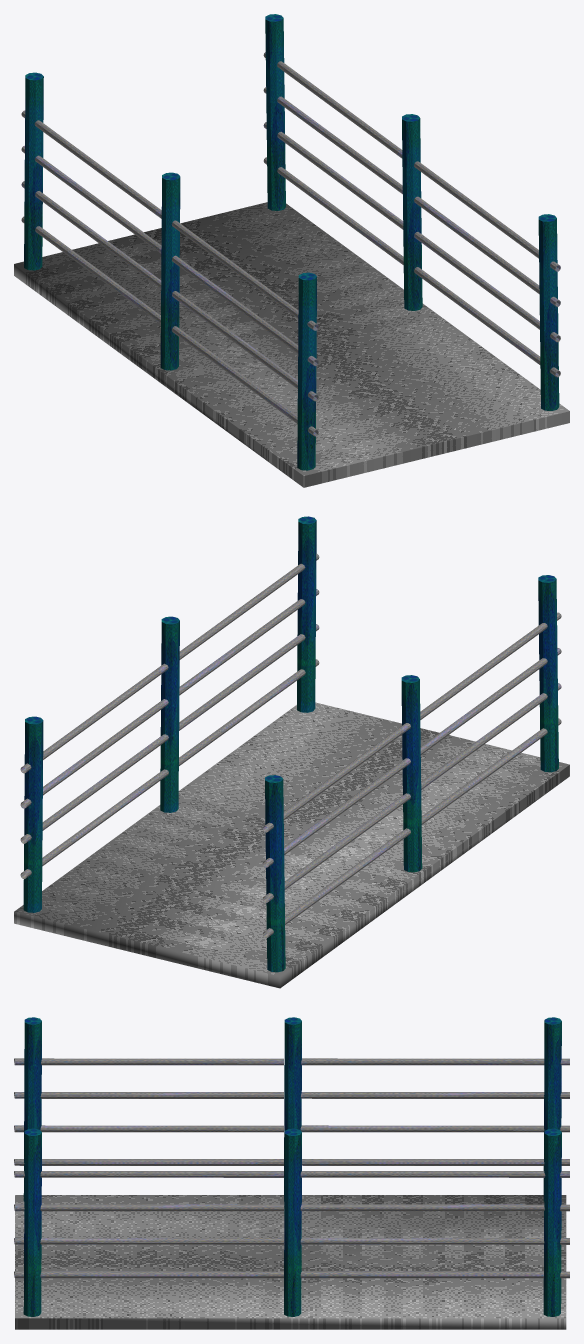
Rendered from StraightWalkwayConnection2.glb.
3 renders of one model, top to bottom at view 1: azimuth 30°, elevation 25°; view 2: azimuth 150°, elevation 25°; view 3: azimuth 270°, elevation 25°, orthographic. The views are drawn at different scales.
Visible parts, largest first — view 1: Straight_Walkway; view 2: Straight_Walkway; view 3: Straight_Walkway.
Boxes of the visible parts, x1,y1,x2,y2 form: Straight_Walkway: [14, 14, 569, 487]; Straight_Walkway: [14, 516, 569, 988]; Straight_Walkway: [14, 1017, 569, 1329].
Size of what is drawn, in the model's own units: 8.73 by 6.3 by 16.6.
Materials: 3 (3 with a texture image).
